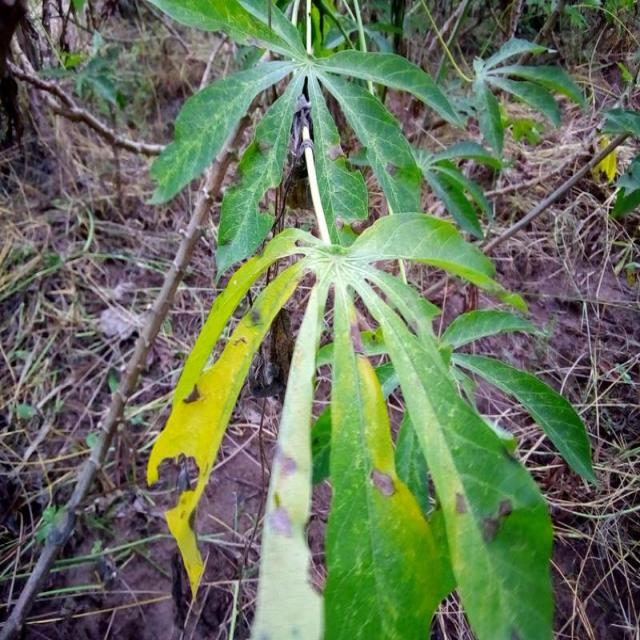cassava leaf: (140, 1, 590, 638)
